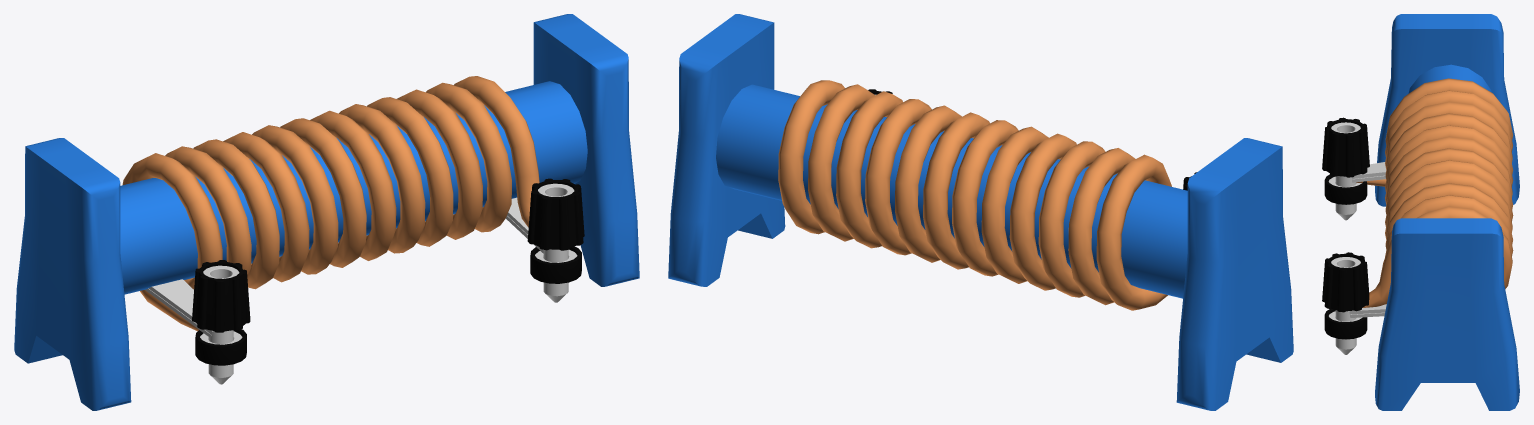
Rendered from Electromagnet.fbx.
3 renders of one model, left to right at view 1: azimuth 30°, elevation 25°; view 2: azimuth 150°, elevation 25°; view 3: azimuth 270°, elevation 25°, orthographic. The views are drawn at different scales.
Visible parts, largest first — view 1: Spiral.003, Cube.005, Cylinder.044, Cylinder.050, Cylinder.049, Cylinder.055; view 2: Spiral.003, Cube.005, Cylinder.044; view 3: Cube.005, Spiral.003, Cylinder.050, Cylinder.049, Cylinder.044, Cylinder.055.
Part boxes in pixels (<box>): Spiral.003: <box>122,76,539,331</box>; Cube.005: <box>14,14,639,410</box>; Cylinder.044: <box>120,81,587,294</box>; Cylinder.050: <box>192,178,584,344</box>; Cylinder.049: <box>195,246,581,384</box>; Cylinder.055: <box>145,197,543,337</box>; Spiral.003: <box>778,80,1171,310</box>; Cube.005: <box>668,14,1293,410</box>; Cylinder.044: <box>716,84,1187,298</box>; Cube.005: <box>1375,14,1519,410</box>; Spiral.003: <box>1356,78,1513,307</box>; Cylinder.050: <box>1322,117,1369,321</box>; Cylinder.049: <box>1324,174,1367,354</box>; Cylinder.044: <box>1408,64,1491,93</box>; Cylinder.055: <box>1349,162,1386,317</box>.
Size of the model in its own units: 320 by 121 by 122.
